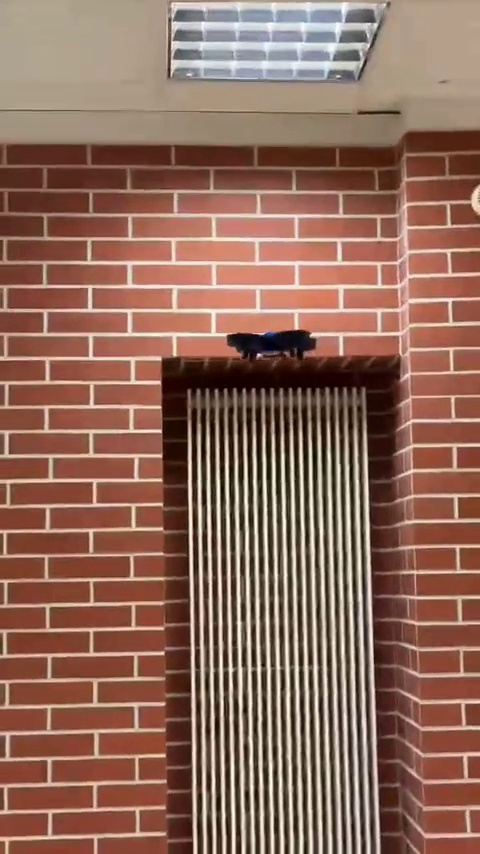drone: (222, 327, 324, 366)
